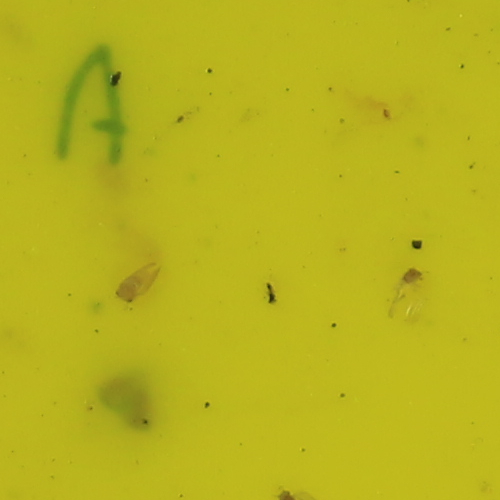psylla: (114, 270, 160, 308), (401, 264, 430, 284)
